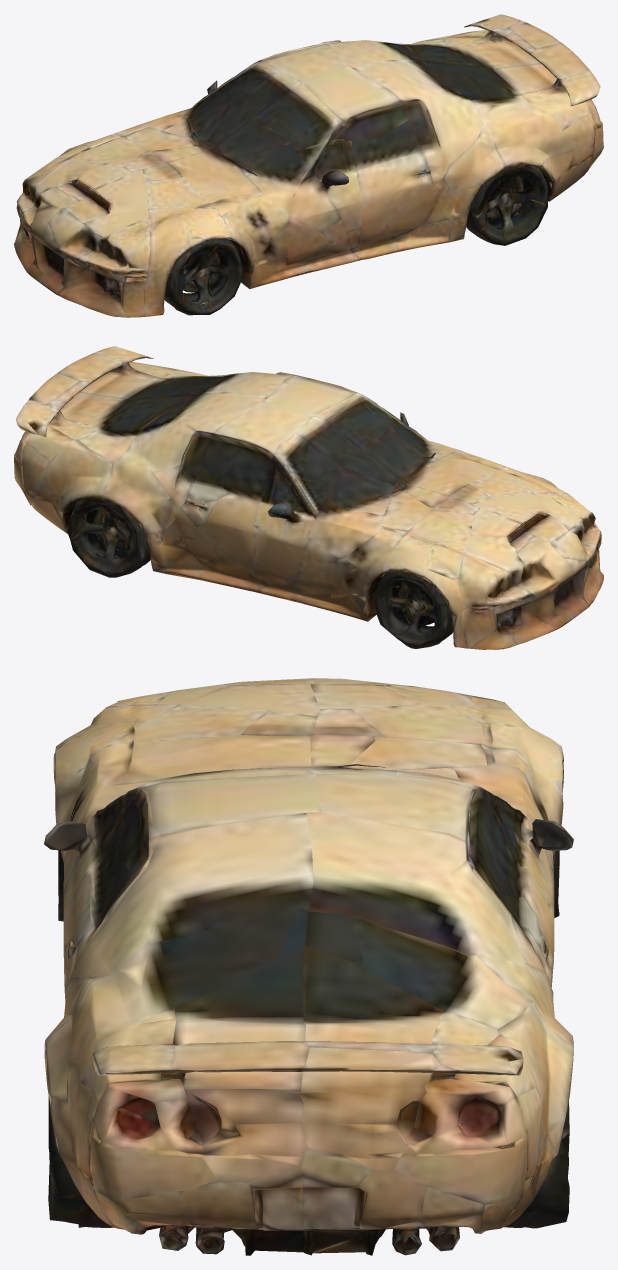
The model's file is car_sports_light_q2.glb.
3 renders of one model, top to bottom at view 1: azimuth 30°, elevation 25°; view 2: azimuth 150°, elevation 25°; view 3: azimuth 270°, elevation 25°, orthographic. The views are drawn at different scales.
Size of the model in its own units: 4.37 by 1.25 by 1.92.
Materials: 1 (1 with a texture image).
